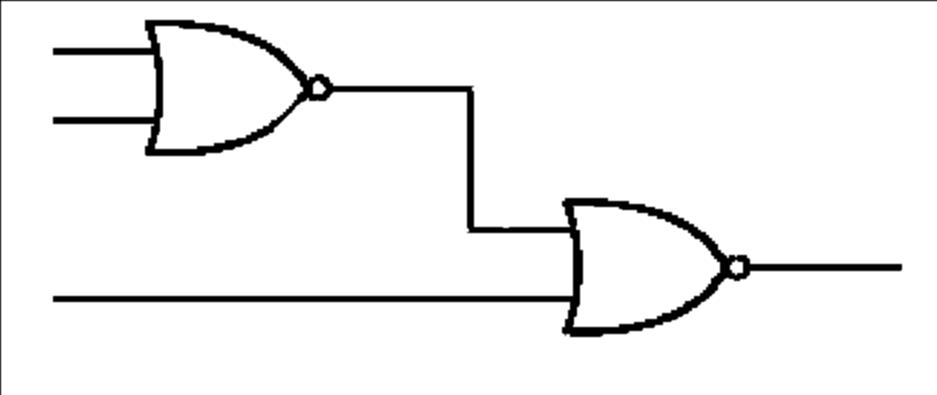nor: (556, 188, 756, 341), (138, 11, 338, 160)
